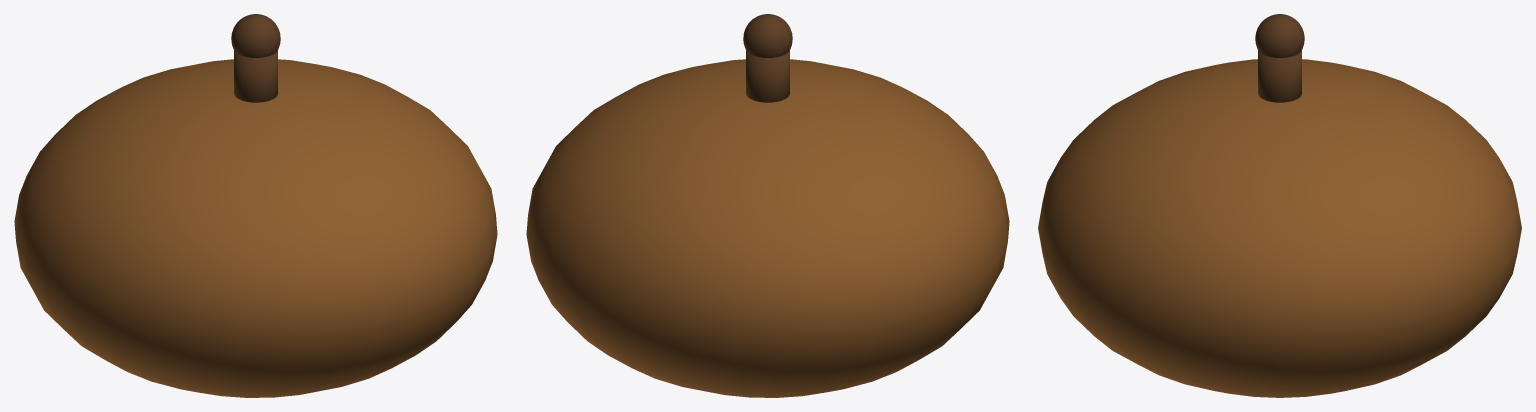
Rendered from acorn-cap.glb.
The picture shows the model from 3 angles, left to right: view 1: azimuth 30°, elevation 25°; view 2: azimuth 150°, elevation 25°; view 3: azimuth 270°, elevation 25°; orthographic projection.
Visible parts, largest first — view 1: acorn-cap; view 2: acorn-cap; view 3: acorn-cap.
Boxes of the visible parts, x1,y1,x2,y2 form: acorn-cap: (14, 14, 497, 397); acorn-cap: (526, 14, 1009, 397); acorn-cap: (1038, 14, 1521, 397).
Size of the model in its own units: 0.88 by 0.6978 by 0.88.
